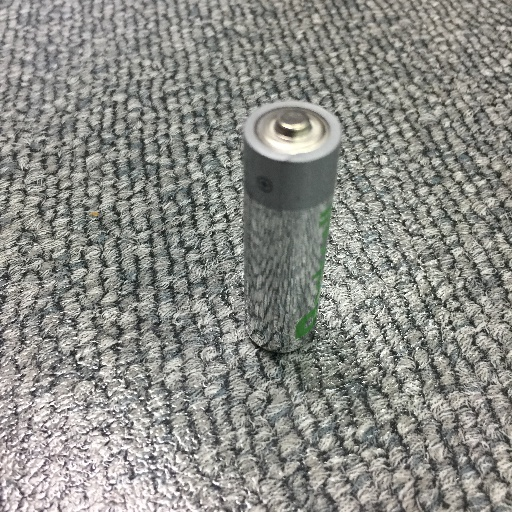Battery_0: (237, 97, 348, 351)
